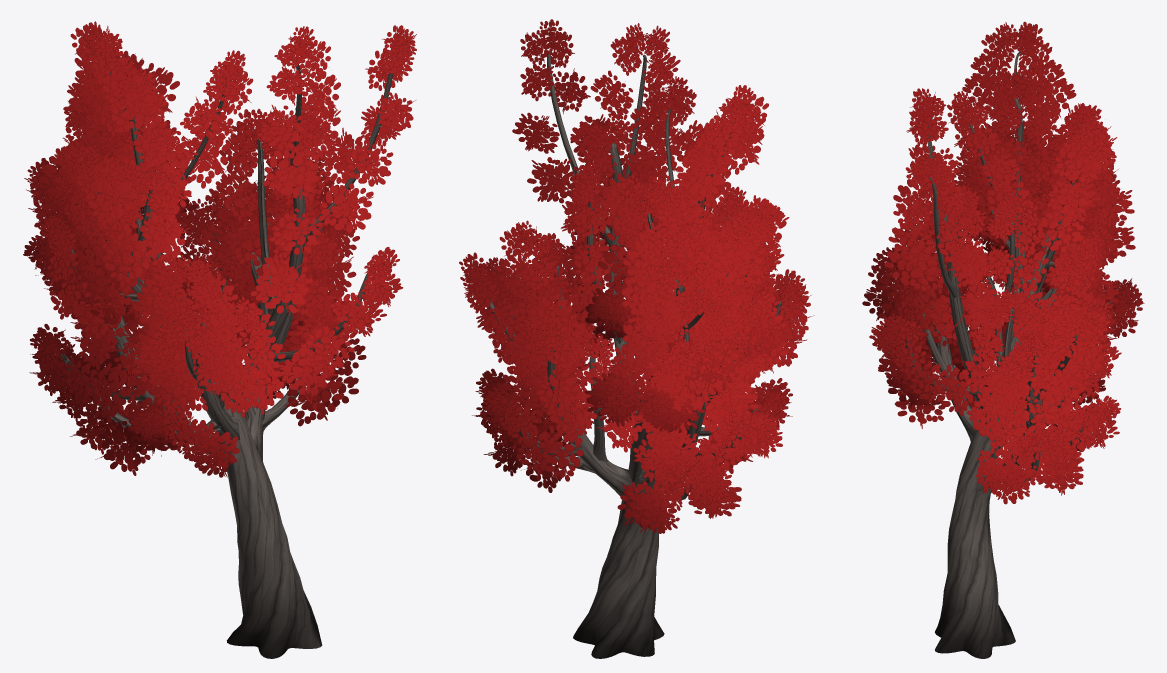
Rendered from TwistedTree_2.gltf.
3 views of the same model, side by side, from view 1: azimuth 30°, elevation 25°; view 2: azimuth 150°, elevation 25°; view 3: azimuth 270°, elevation 25° (orthographic). The views are drawn at different scales.
Parts seen in each view (by area): view 1: TwistedTree_2; view 2: TwistedTree_2; view 3: TwistedTree_2.
Part boxes in pixels (box(x1,y1,x2,y2)): TwistedTree_2: box(23, 21, 416, 658); TwistedTree_2: box(459, 19, 814, 658); TwistedTree_2: box(862, 21, 1144, 658).
Bounding box in the file's own units: 10.56 × 18.95 × 9.2.
Materials: 2 (2 with a texture image).
